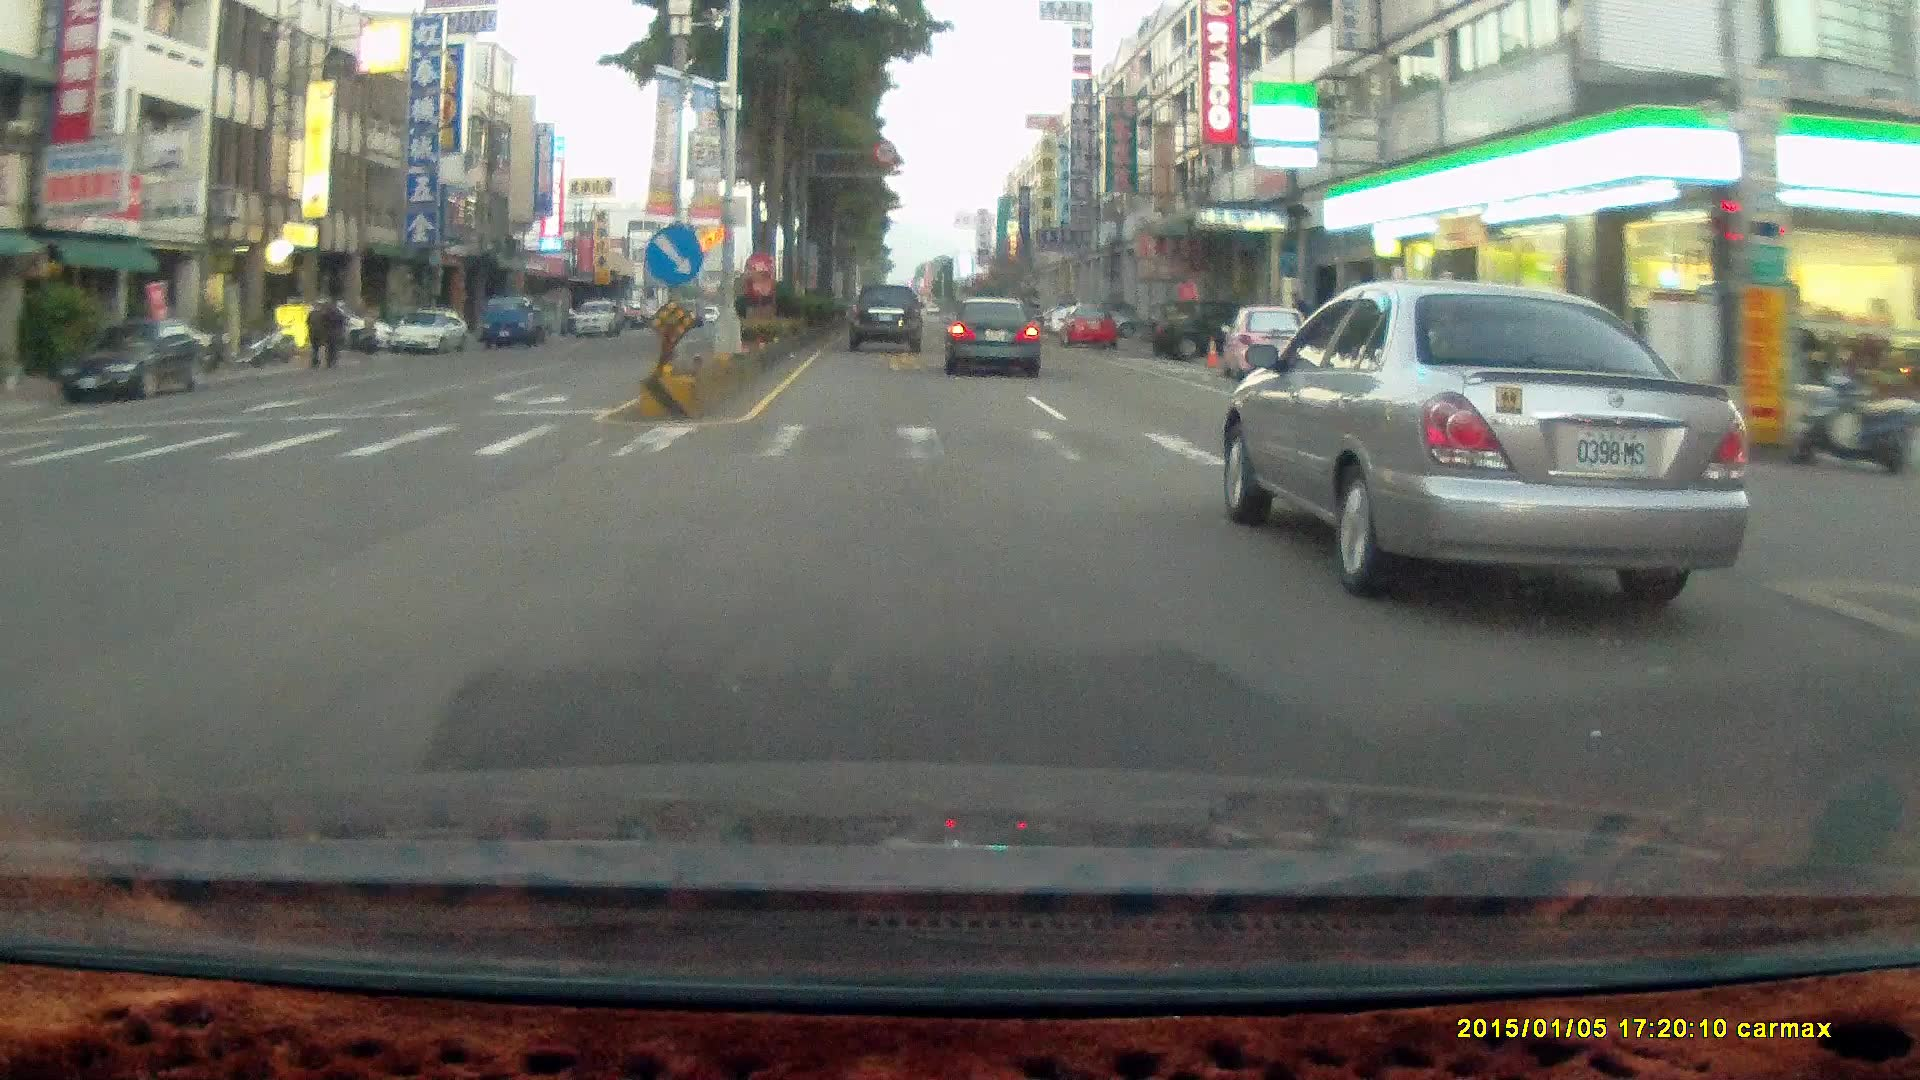pedestrian: (316, 293, 344, 367), (317, 299, 348, 364), (303, 294, 328, 367), (304, 300, 326, 367)
vehicle: (1227, 286, 1749, 625), (1487, 317, 1660, 460), (59, 317, 211, 400), (63, 317, 212, 399), (946, 300, 1045, 382), (945, 292, 1039, 373), (1141, 296, 1247, 361), (1226, 301, 1315, 376), (1219, 300, 1308, 371), (1141, 295, 1232, 361), (848, 284, 927, 358), (846, 282, 923, 352), (484, 294, 563, 349), (391, 306, 472, 356), (480, 295, 547, 349), (389, 310, 467, 355), (1058, 299, 1114, 346), (1067, 298, 1120, 346), (573, 297, 623, 334)
